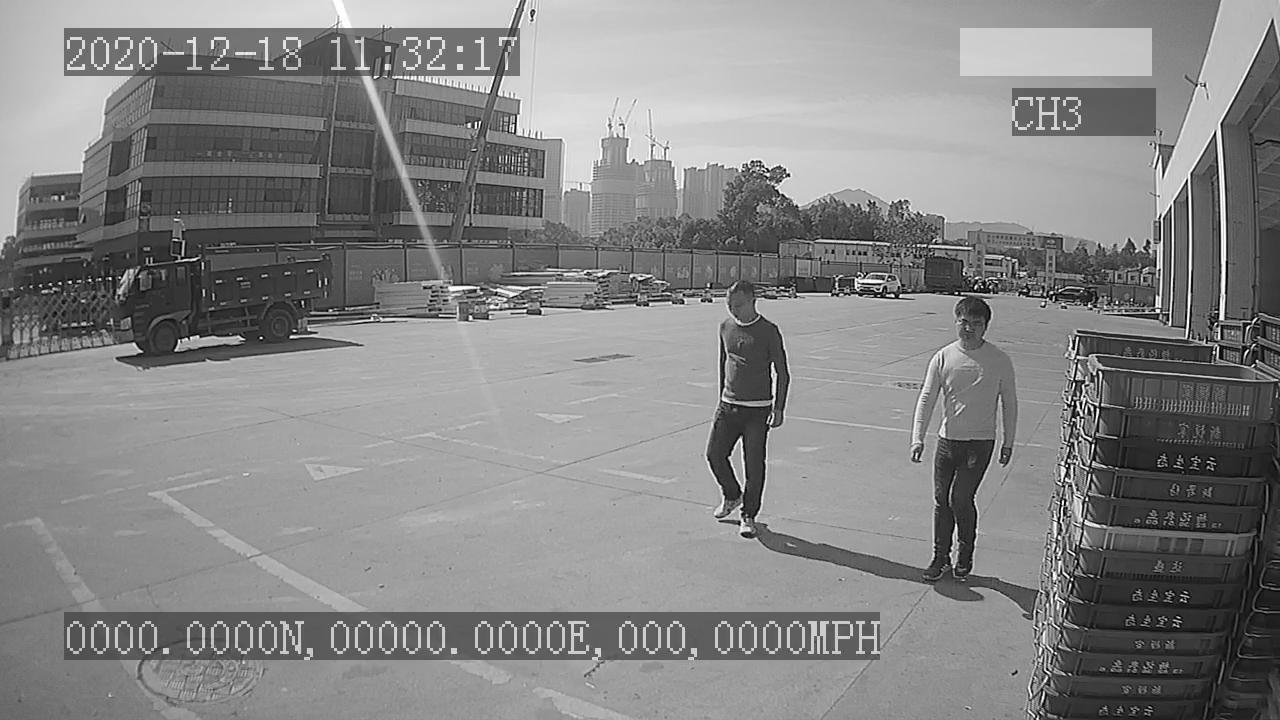person: (911, 293, 1018, 585), (704, 277, 797, 540)
